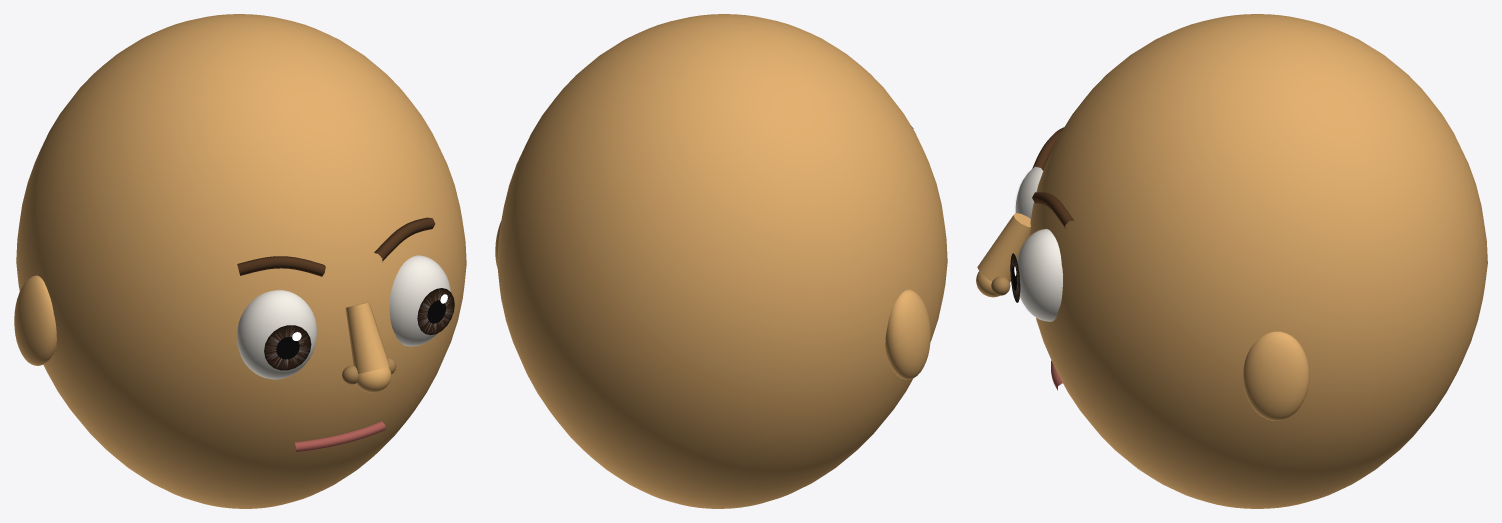
Rendered from 05-retrousse.glb.
3 views of the same model, side by side, from view 1: azimuth 30°, elevation 25°; view 2: azimuth 150°, elevation 25°; view 3: azimuth 270°, elevation 25° (orthographic).
Bounding box in the file's own units: 0.3087 × 0.321 × 0.3229.
Materials: 9 (1 with a texture image).
